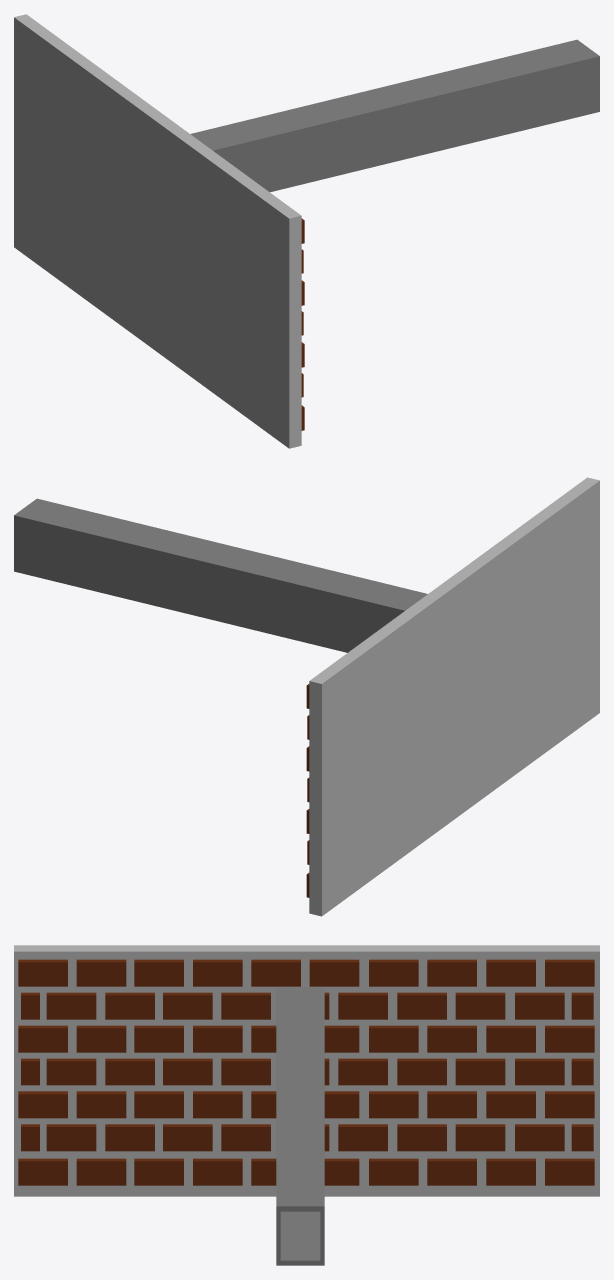
File: (Muro,Perlin Rectangular).fbx
3 views of the same model, one above another, from view 1: azimuth 30°, elevation 25°; view 2: azimuth 150°, elevation 25°; view 3: azimuth 270°, elevation 25° (orthographic). The views are drawn at different scales.
Parts seen in each view (by area): view 1: Muro Completo.002, Perlin Rectangular.002; view 2: Muro Completo.002, Perlin Rectangular.002; view 3: Muro Completo.002, Perlin Rectangular.002.
Part boxes in pixels (<box>): Muro Completo.002: <box>14,14,304,448</box>; Perlin Rectangular.002: <box>190,39,599,192</box>; Muro Completo.002: <box>306,477,599,916</box>; Perlin Rectangular.002: <box>14,498,427,652</box>; Muro Completo.002: <box>14,945,599,1196</box>; Perlin Rectangular.002: <box>276,987,324,1265</box>.
Bounding box in the file's own units: 1165 × 590 × 1279.
